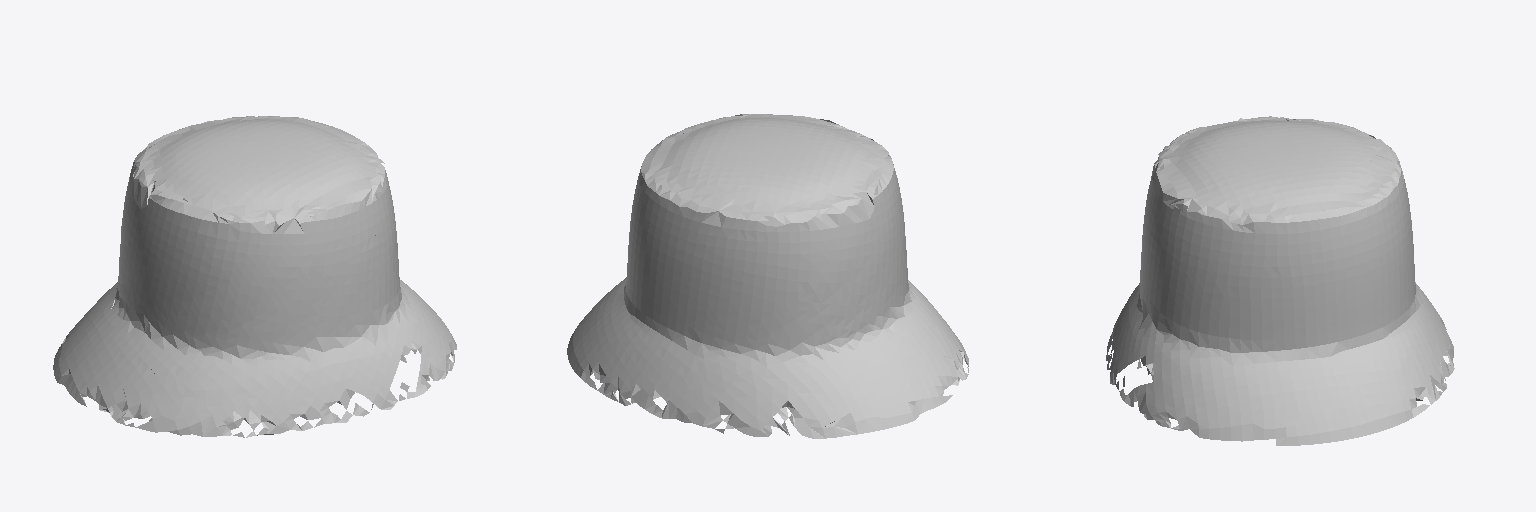
Rendered from BucketHatRemesh.obj.
The picture shows the model from 3 angles: view 1: azimuth 30°, elevation 25°; view 2: azimuth 150°, elevation 25°; view 3: azimuth 270°, elevation 25°; orthographic projection.
Bounding box in the file's own units: 0.1859 × 0.1057 × 0.158.